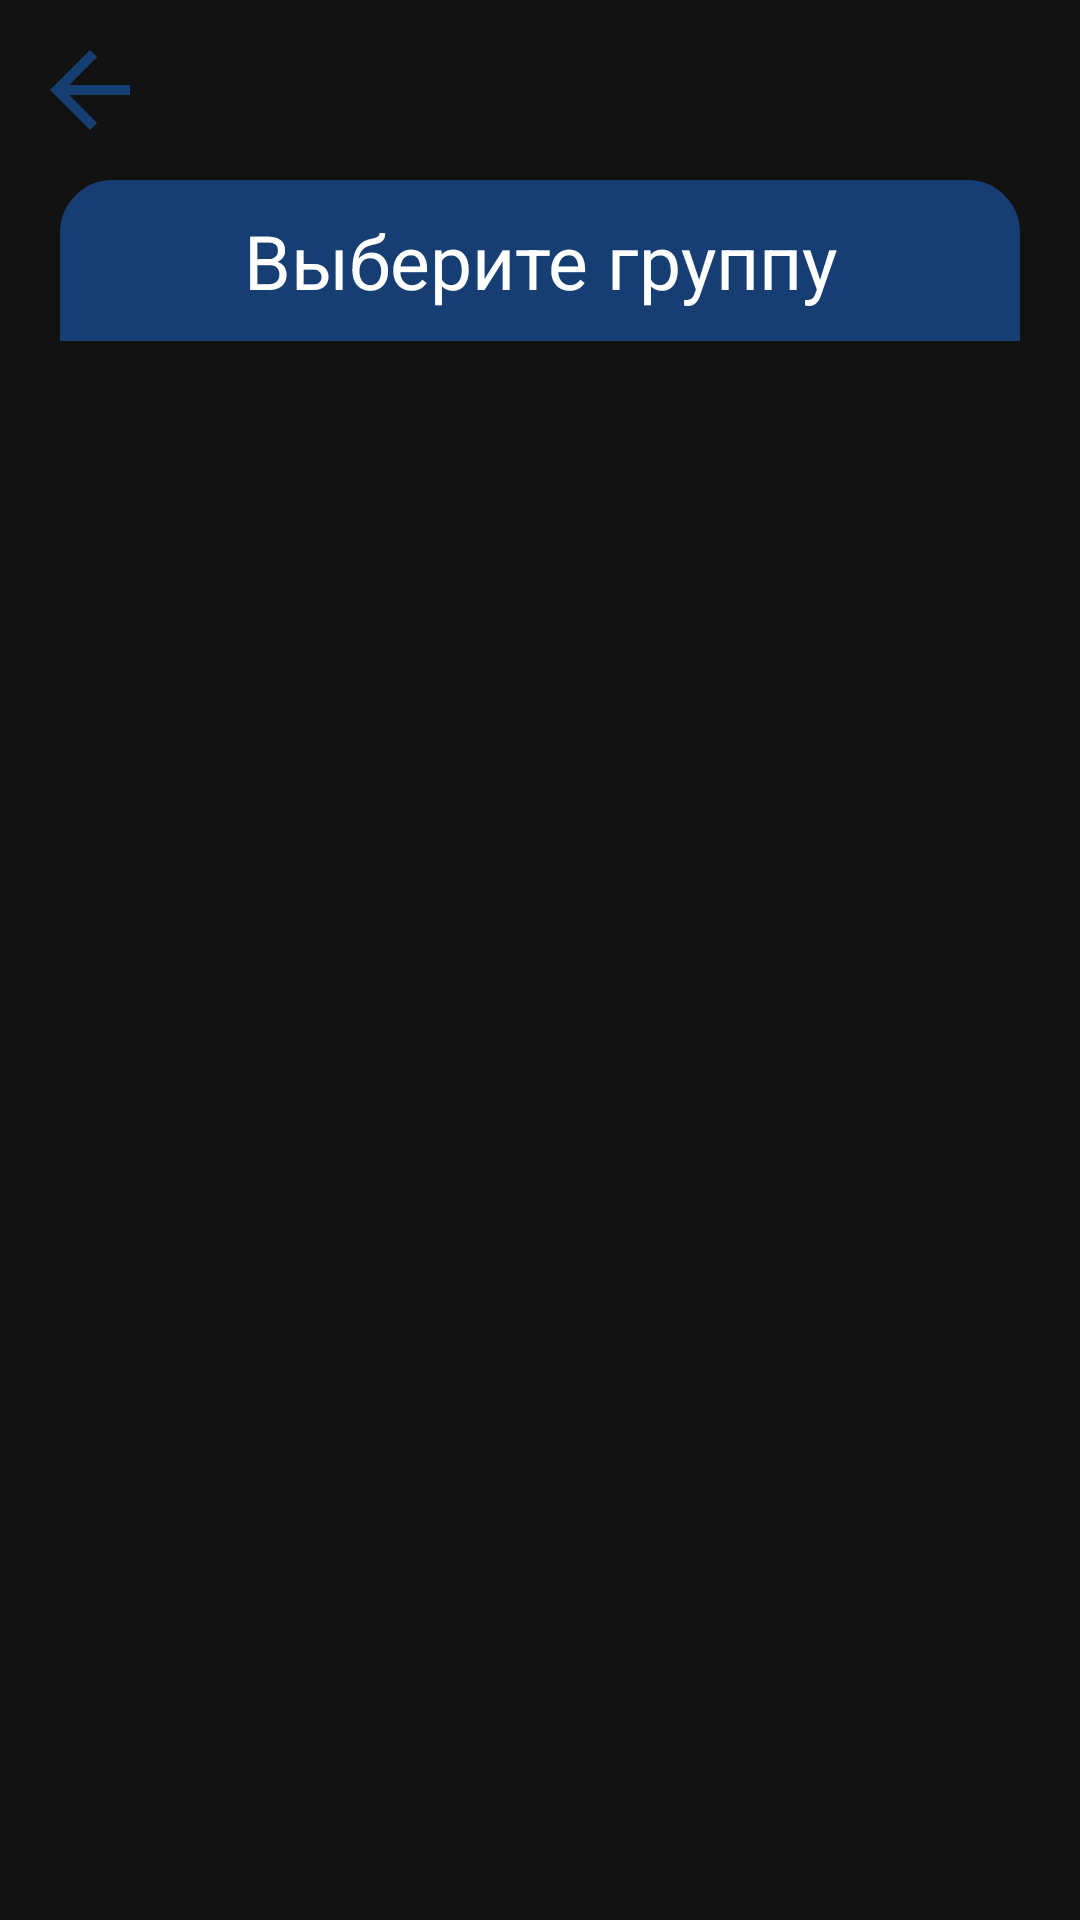

Icon click points for this 1080*1920 phone screenshot, format [x,y]:
back: [90,90]
